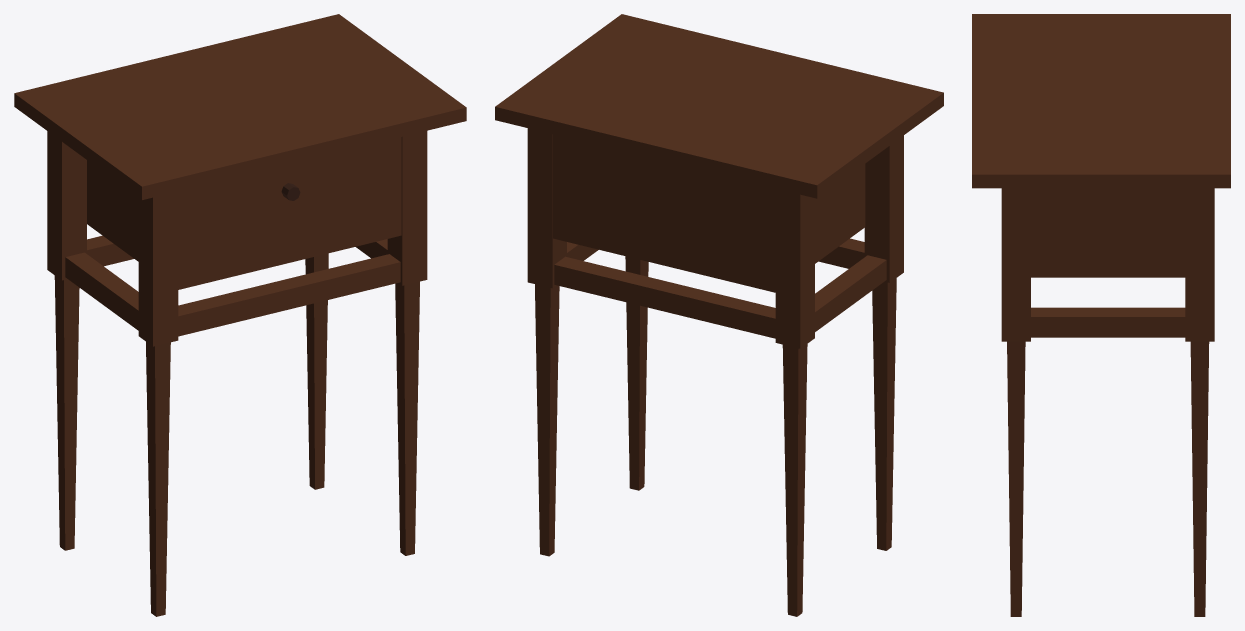
The model's file is small drawer.fbx.
3 renders of one model, left to right at view 1: azimuth 30°, elevation 25°; view 2: azimuth 150°, elevation 25°; view 3: azimuth 270°, elevation 25°, orthographic. The views are drawn at different scales.
Parts seen in each view (by area): view 1: pCube83; view 2: pCube83; view 3: pCube83.
Part boxes in pixels (box(x1,y1,x2,y2)): pCube83: box(14, 14, 466, 616); pCube83: box(495, 14, 943, 616); pCube83: box(972, 14, 1230, 616).
Size of the model in its own units: 3.88 by 5.16 by 2.64.
